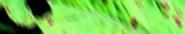Tomato leaf bacterial spot: (32, 0, 185, 34)
